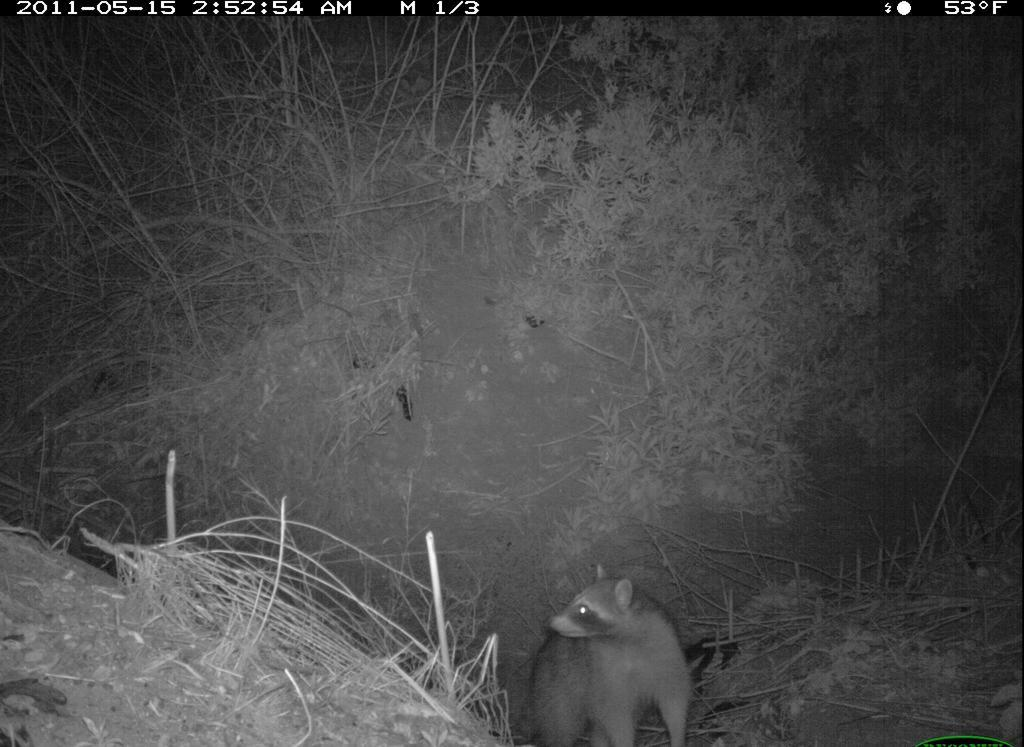raccoon: (509, 571, 725, 747)
